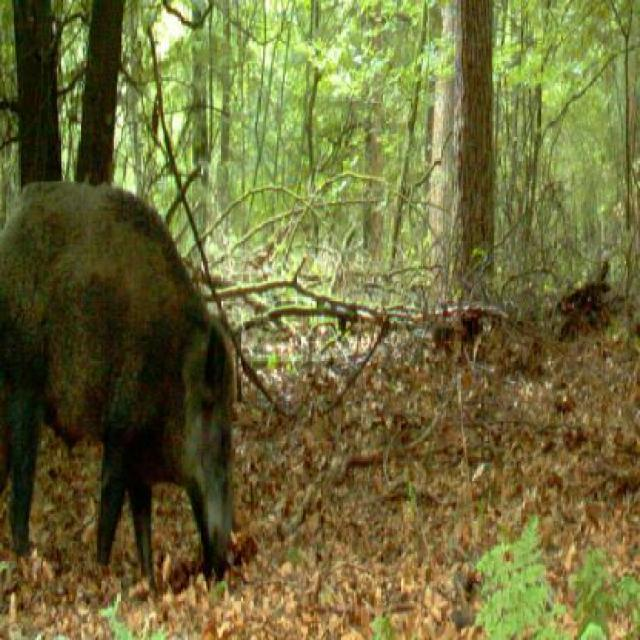Boar: (0, 81, 269, 640)
